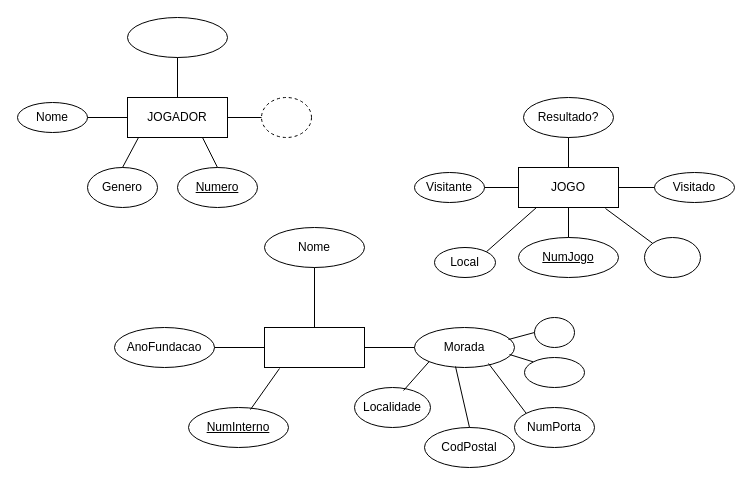
Image size: 752x485. Some labels were removed from this diagram. The centre of each missing label's shape, as x and y in pixels:
Data: pixel 672 257
DataNascimento: pixel 177 37
EQUIPA: pixel 314 347
Idade: pixel 286 117
Pais: pixel 554 332
Rua: pixel 554 372
